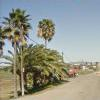Tree: (7, 6, 61, 84)
